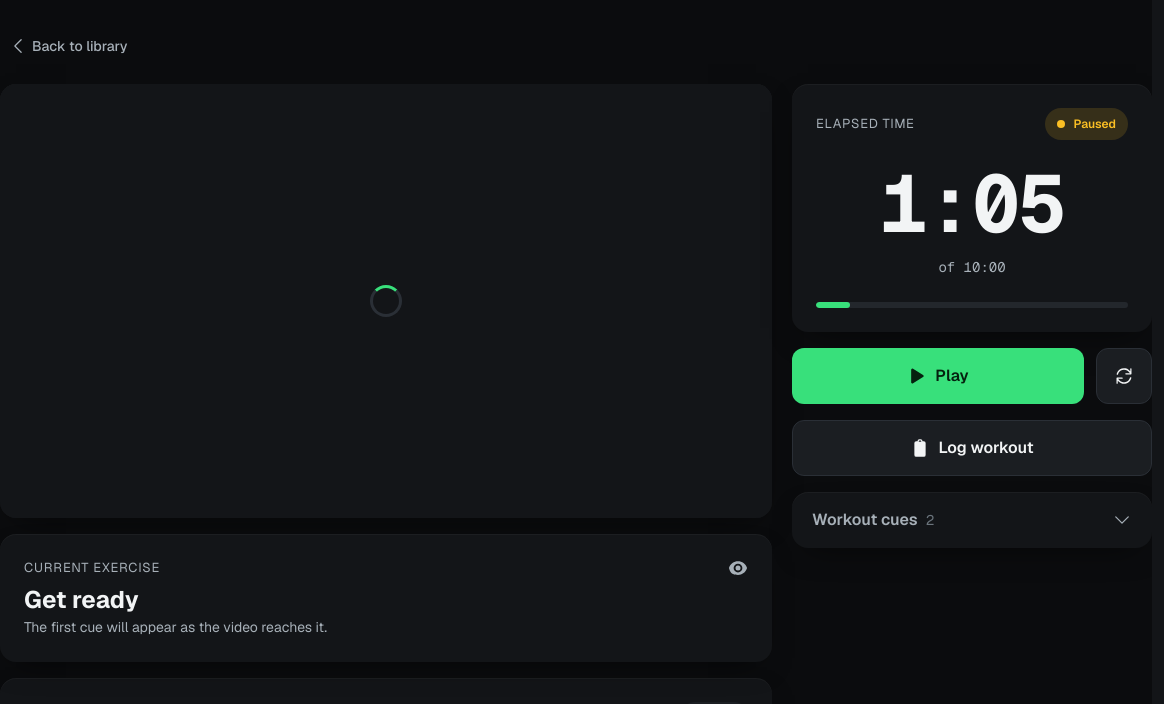
Scenario: Workout session cockpit › keeps cue maintenance secondary and logs the workout in place
This screenshot has width=1164, height=704.
Click the heading "Workout cues2". click: (865, 519)
box: [812,509,1132,530]
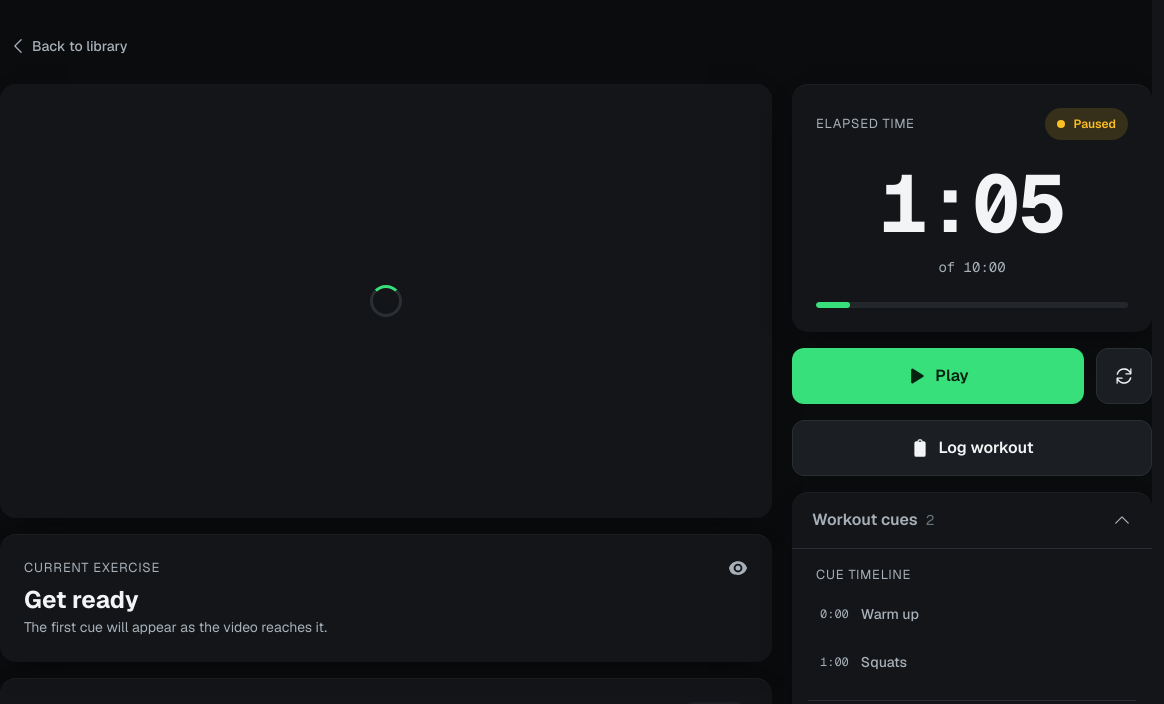
Click the button "Log workout". click: (972, 448)
box: [792,420,1152,476]
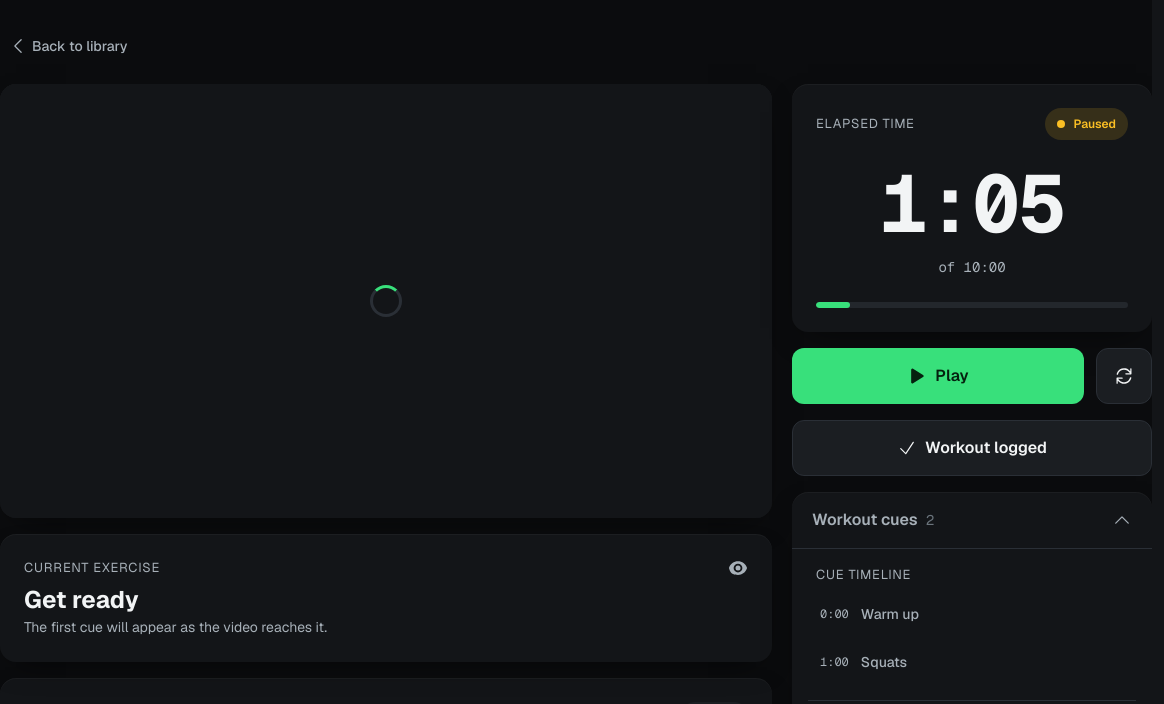
Expected: the button "Workout logged" is shown, [792,420,1152,476]
